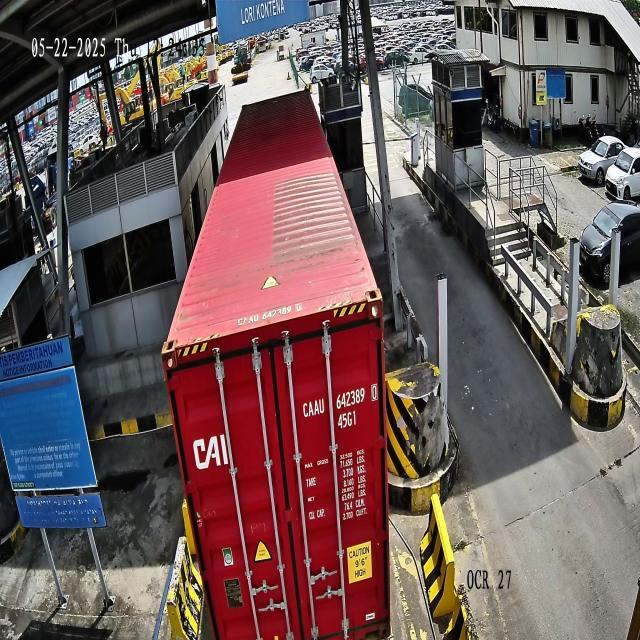ISO: (338, 407, 359, 432)
container_number: (302, 380, 382, 420)
